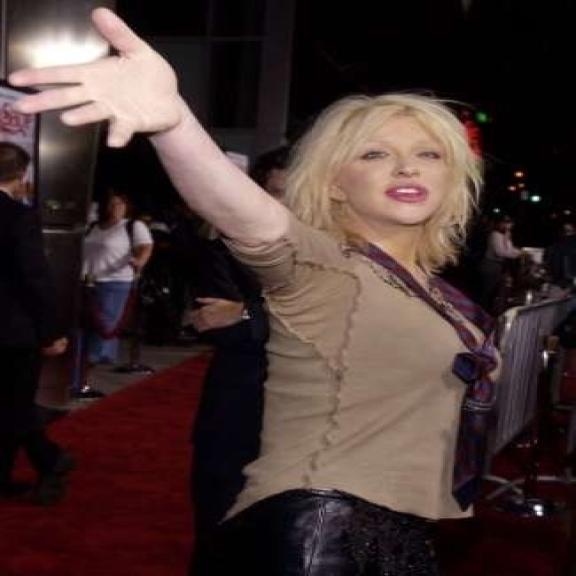face: (311, 95, 459, 237)
